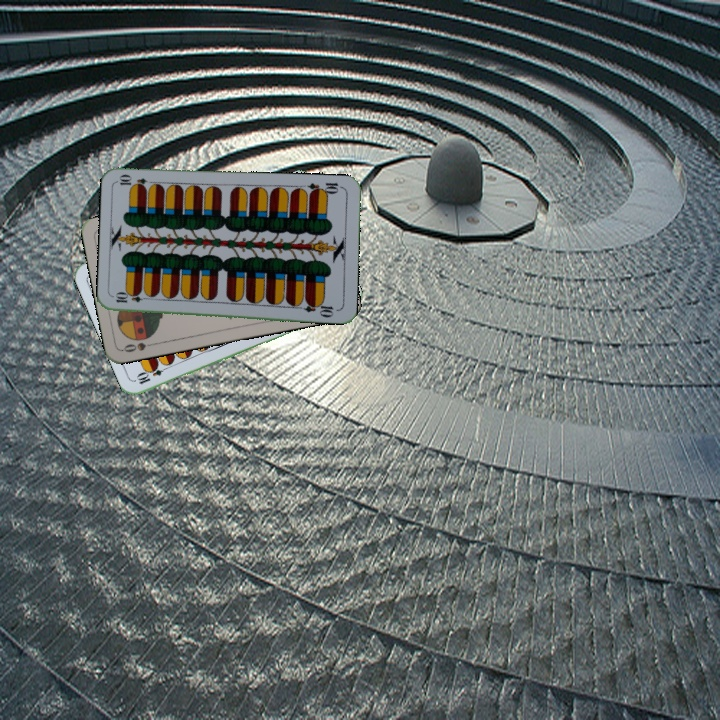E10: (133, 361, 172, 387), (304, 178, 345, 198), (112, 291, 152, 305)
SO: (119, 338, 160, 355)
